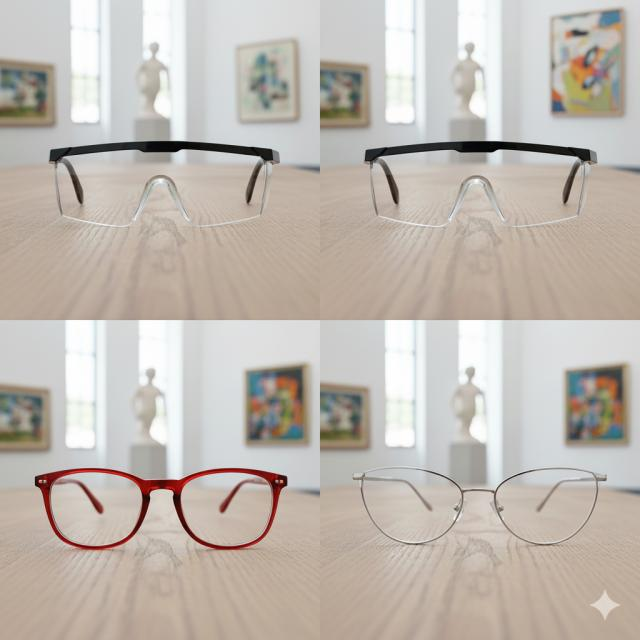oculos-epi: (50, 142, 279, 227), (369, 149, 591, 226), (364, 141, 596, 163)
sem_oculos: (35, 468, 287, 548), (354, 468, 606, 545)
